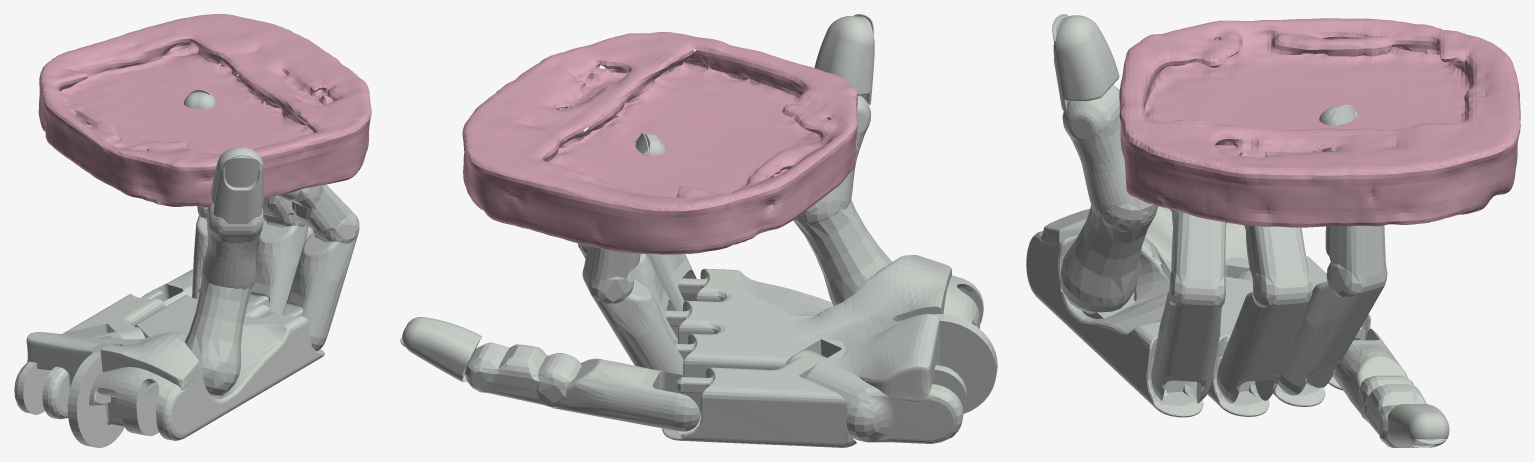
3 renders of one model, left to right at view 1: azimuth 30°, elevation 25°; view 2: azimuth 150°, elevation 25°; view 3: azimuth 270°, elevation 25°, orthographic. The views are drawn at different scales.
Parts seen in each view (by area): view 1: hand, world; view 2: hand, world; view 3: world, hand.
Boxes of the visible parts, left/top/right/bottom form: hand: left=14, top=89, right=359, bottom=447; world: left=38, top=14, right=371, bottom=207; hand: left=400, top=14, right=997, bottom=447; world: left=462, top=31, right=858, bottom=254; world: left=1119, top=18, right=1520, bottom=227; hand: left=1026, top=14, right=1449, bottom=447.
Bounding box in the file's own units: 0.1875 × 0.1303 × 0.162.
